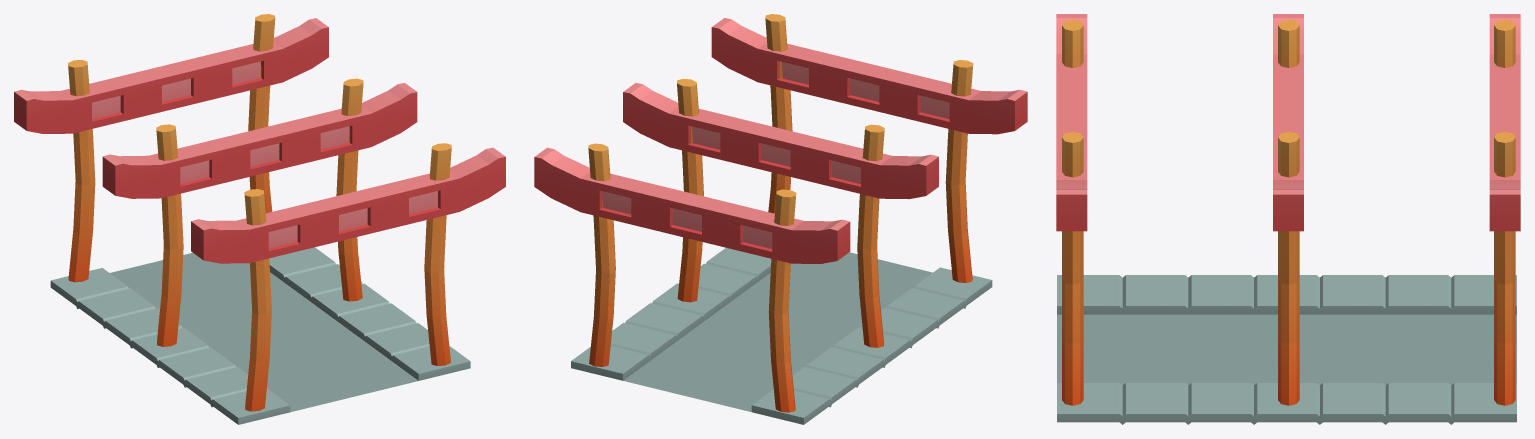
File: Fbx_hallchurch.fbx
3 views of the same model, side by side, from view 1: azimuth 30°, elevation 25°; view 2: azimuth 150°, elevation 25°; view 3: azimuth 270°, elevation 25° (orthographic). The views are drawn at different scales.
Parts seen in each view (by area): view 1: Circle.007; view 2: Circle.007; view 3: Circle.007.
Part boxes in pixels (left/top/right/bottom): Circle.007: left=14, top=14, right=505, bottom=424; Circle.007: left=534, top=14, right=1027, bottom=424; Circle.007: left=1056, top=14, right=1520, bottom=424.
Bounding box in the file's own units: 18.92 × 13.4 × 20.55.
